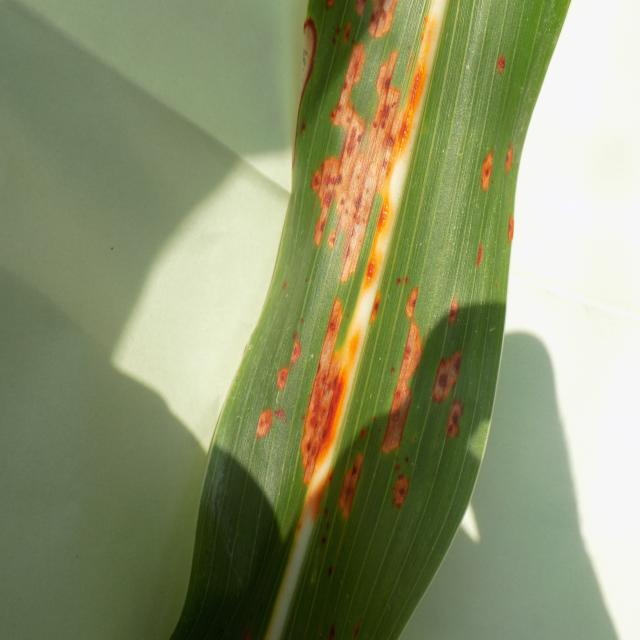millet_rust: (168, 0, 573, 640)
